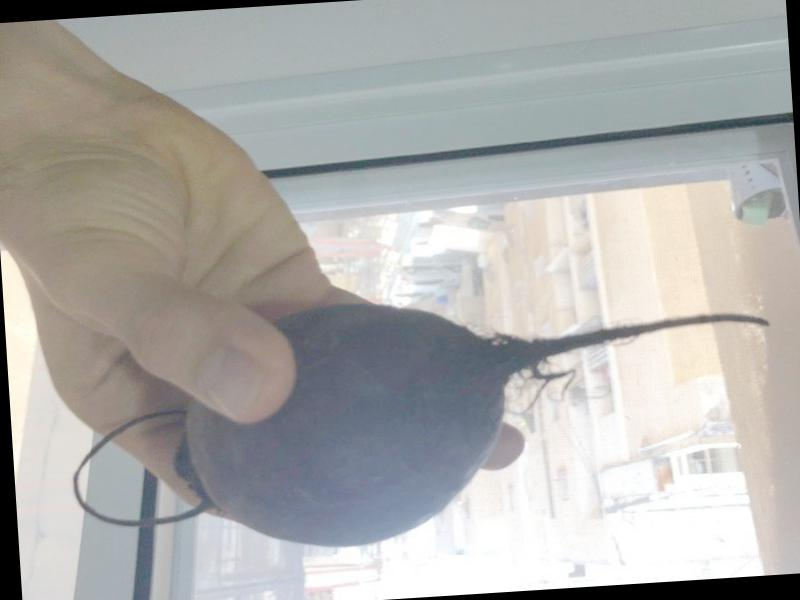Beet: (65, 278, 784, 564)
